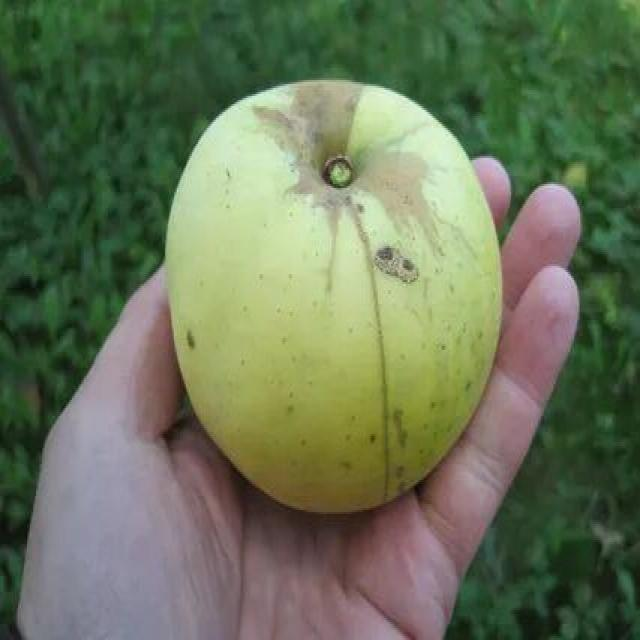Fresh Apple: (180, 104, 482, 508)
